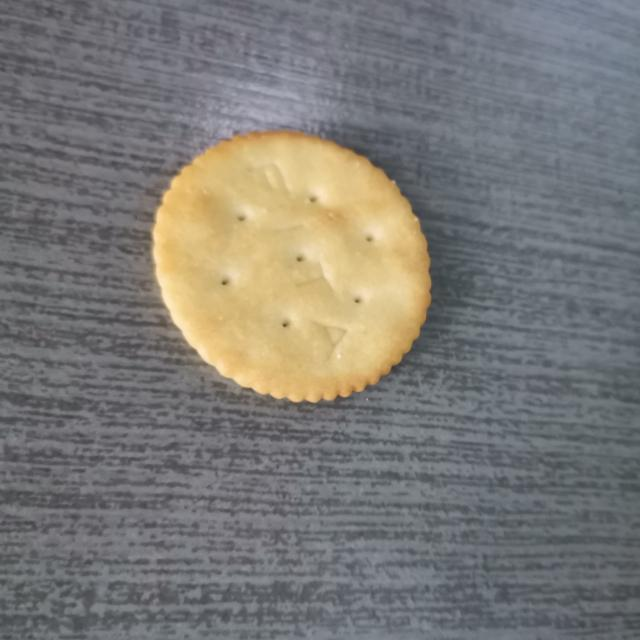Intact: (143, 112, 451, 427)
